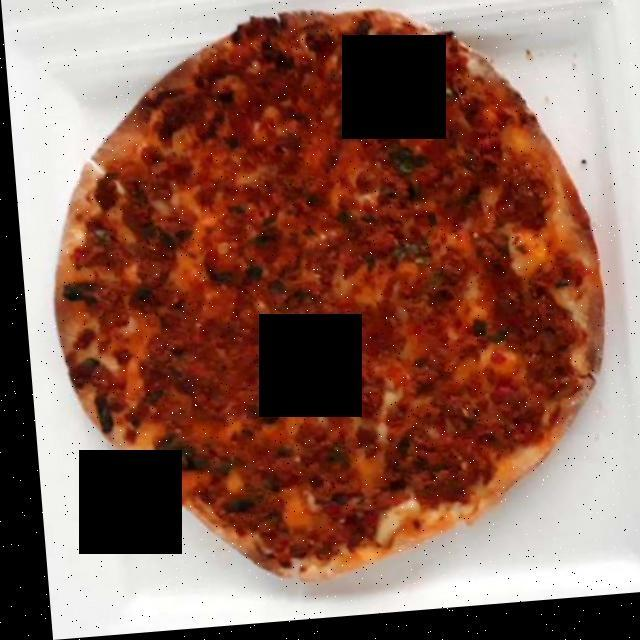tomato-sauce: (97, 54, 563, 516)
